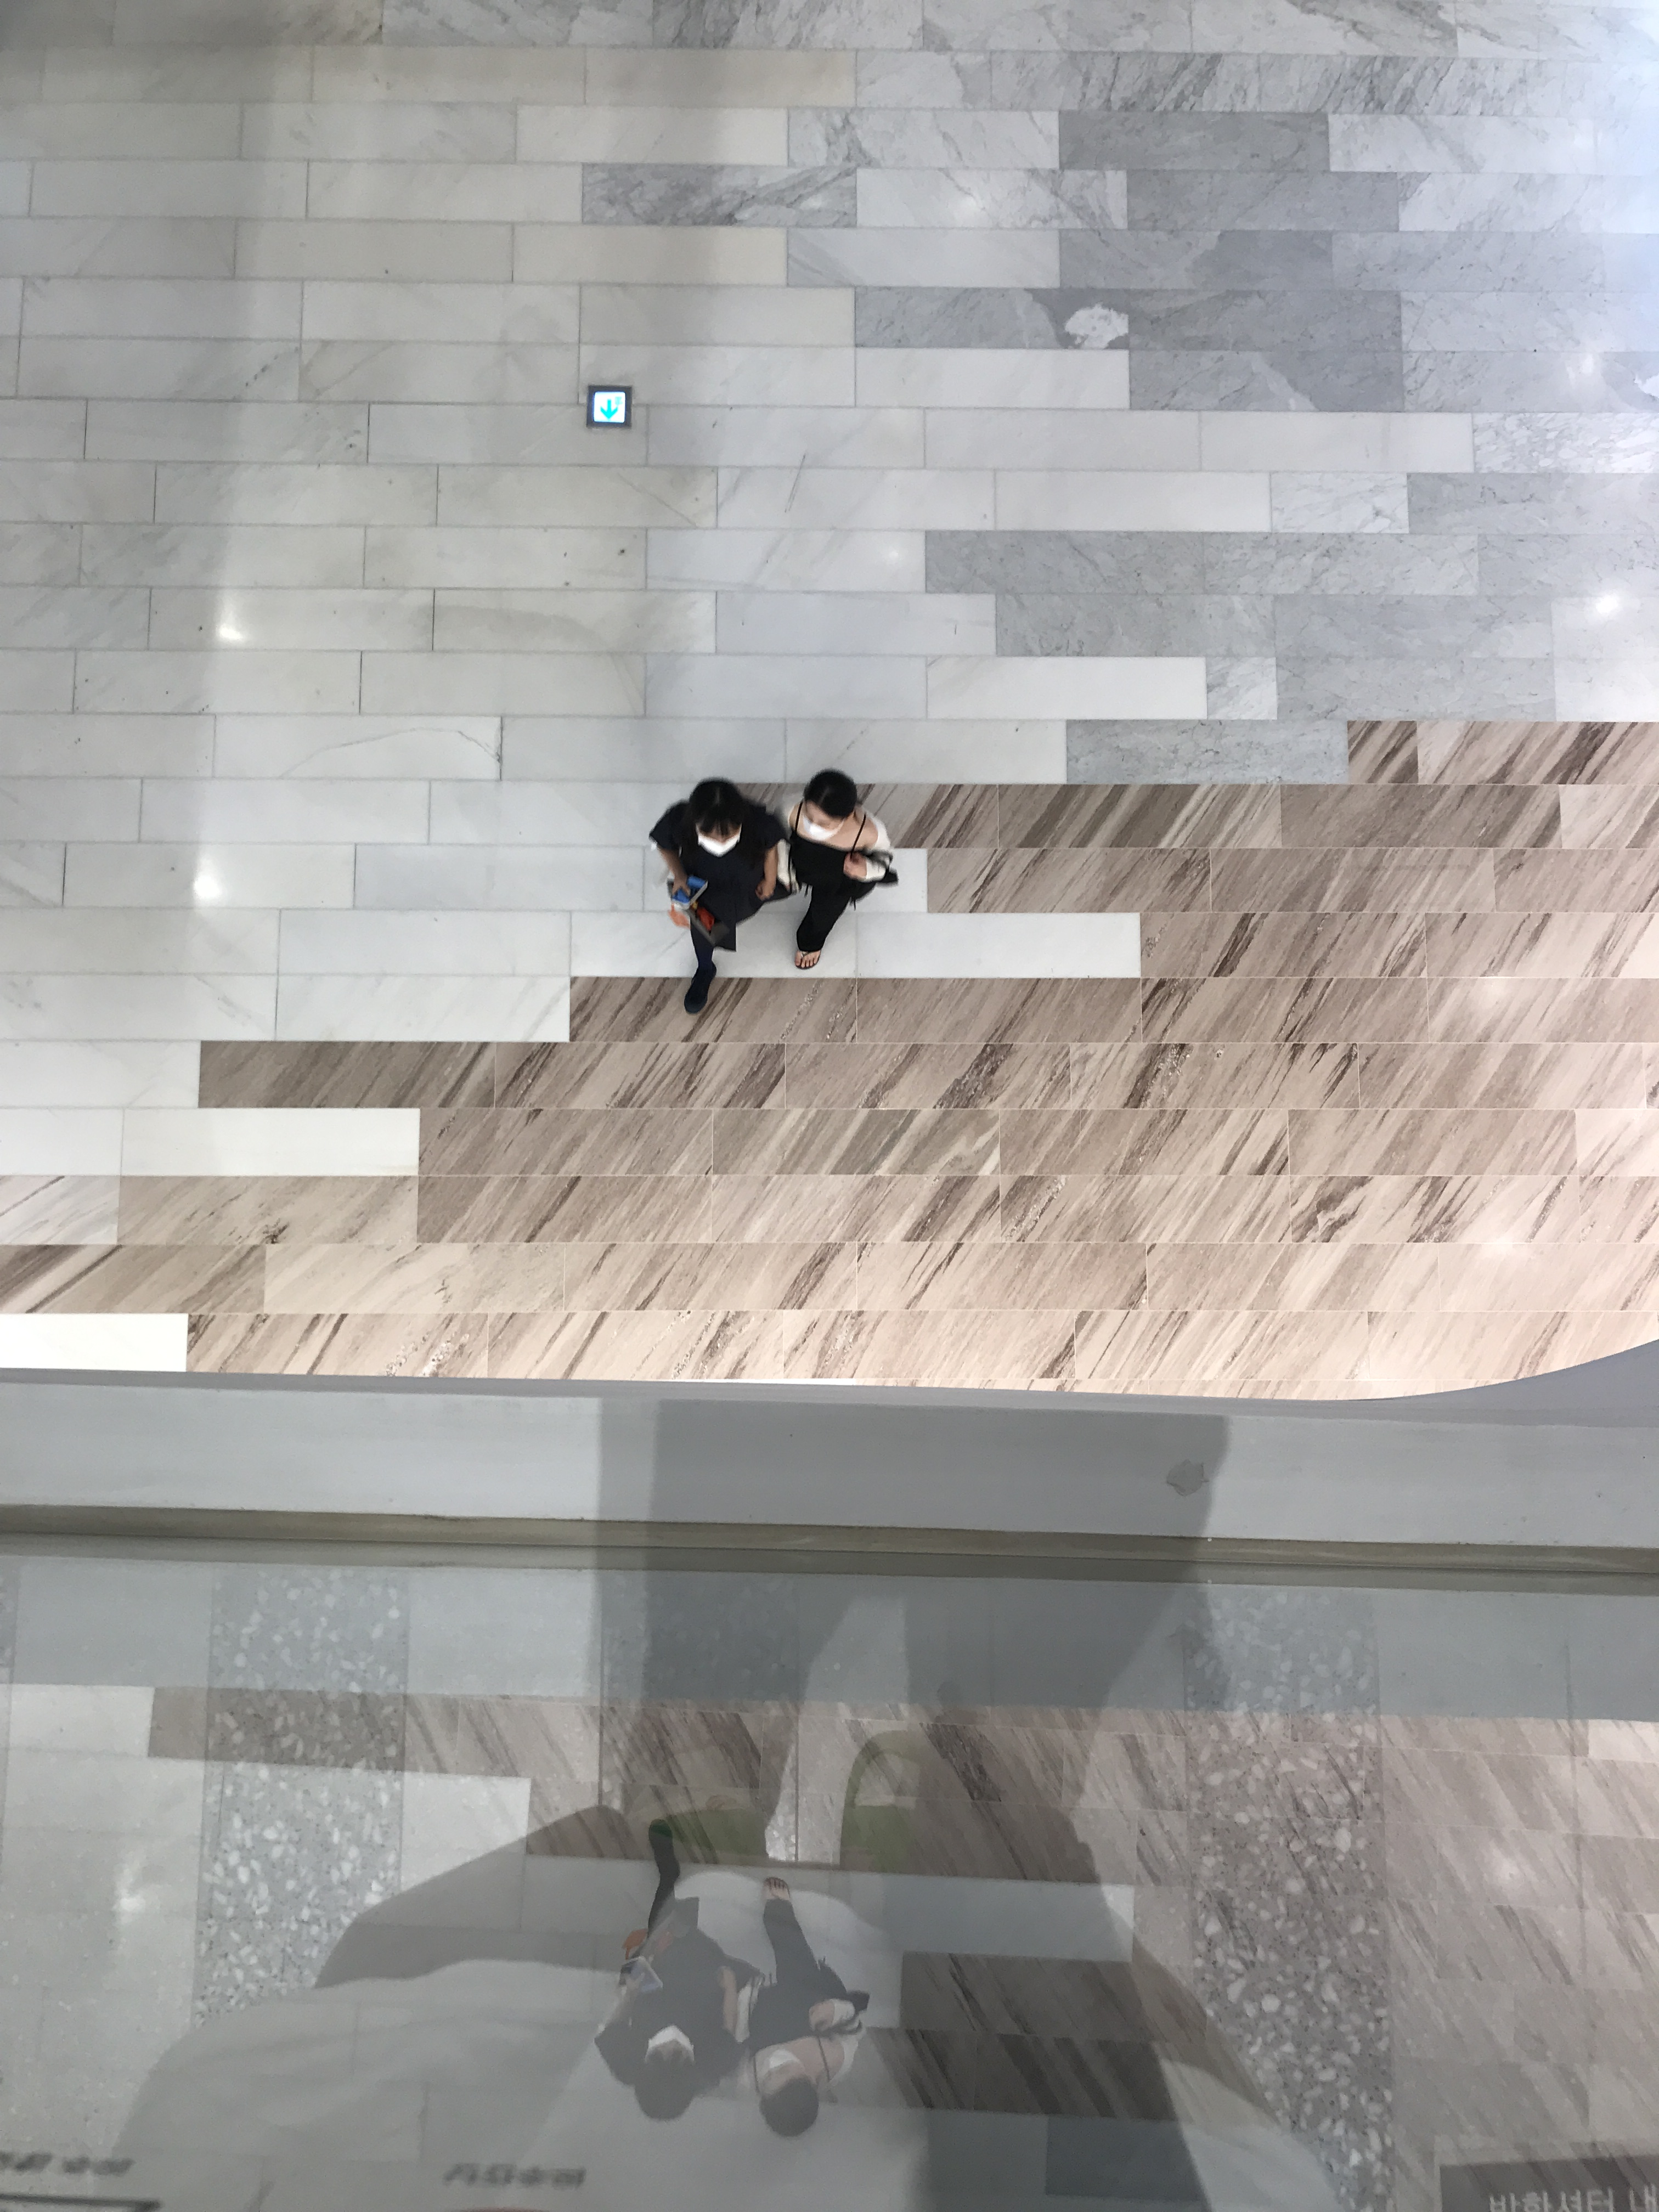person: (647, 774, 785, 1019), (774, 768, 898, 973)
